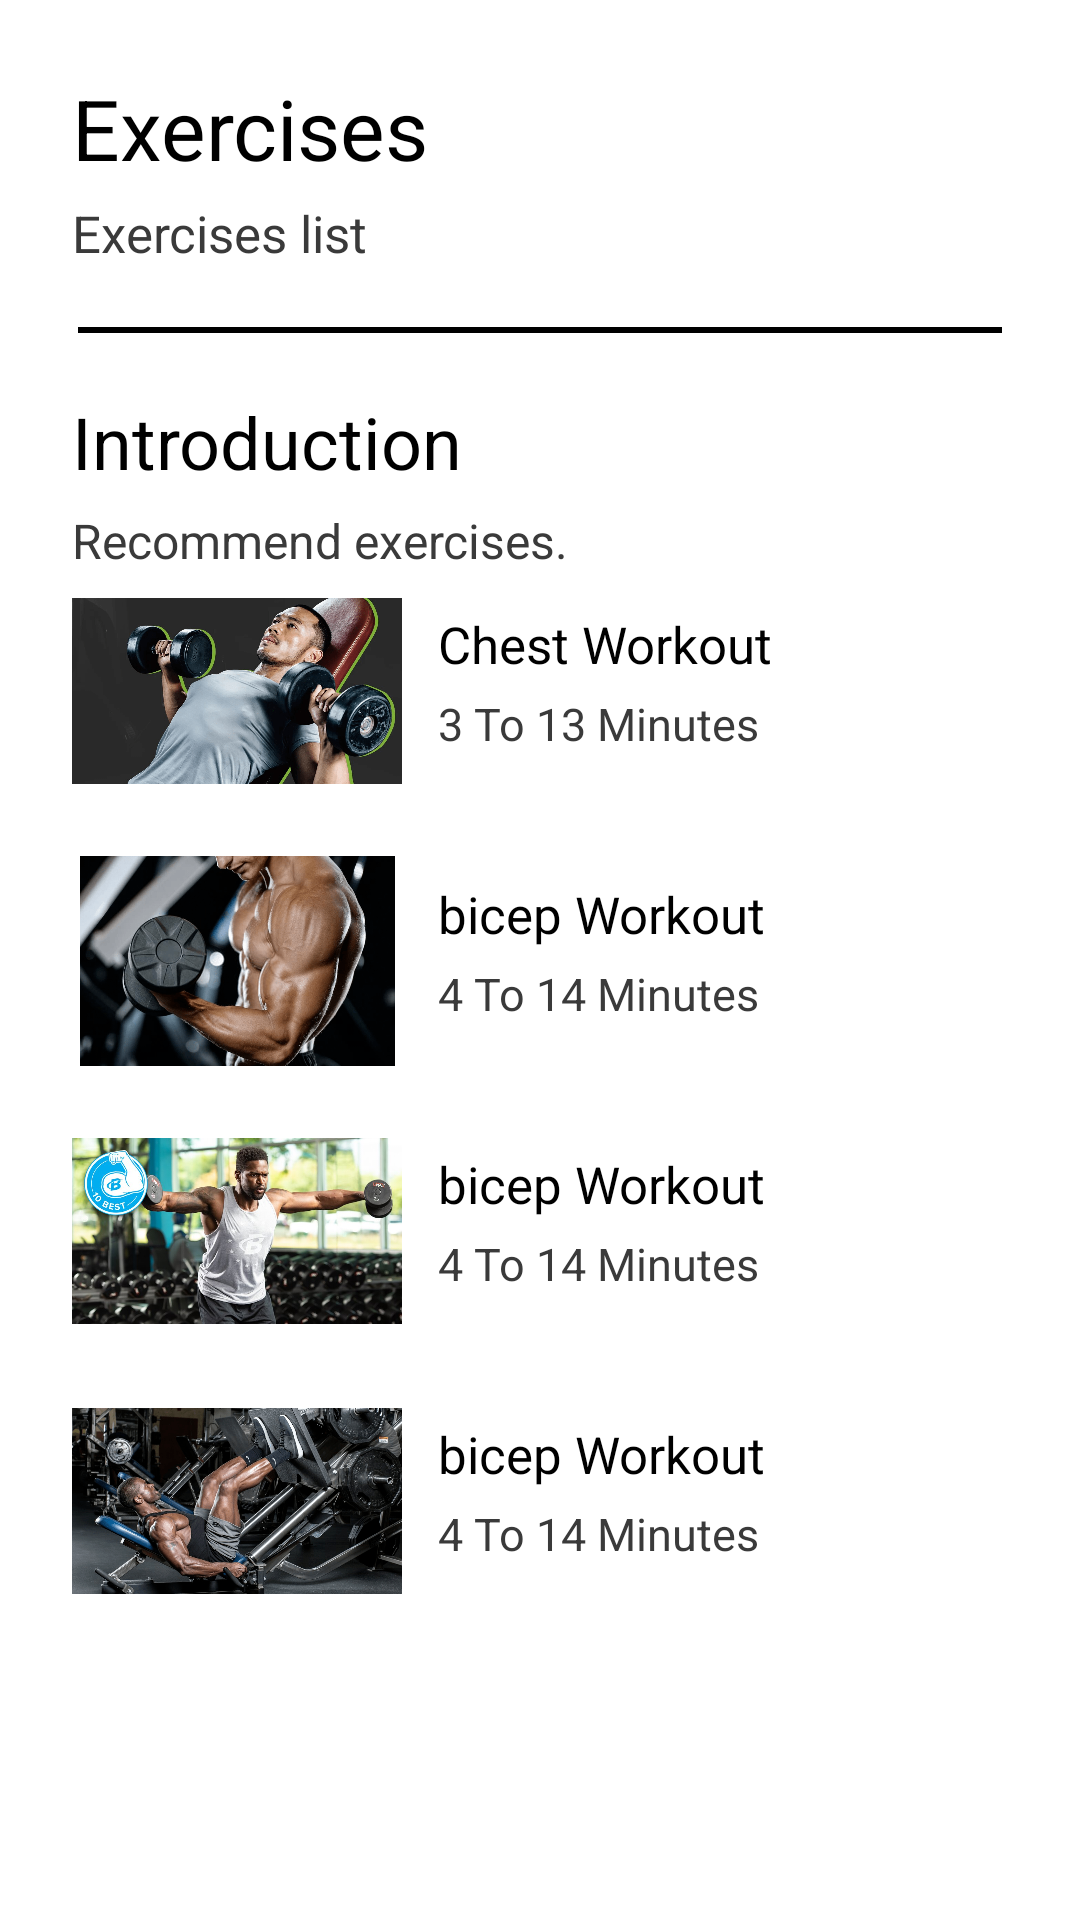

Where to tap for icons on this 1080 x 1920 app screen, as (x=x, y=y):
best bicep exercises: (x=237, y=961)
best upper chest exercises: (x=237, y=691)
